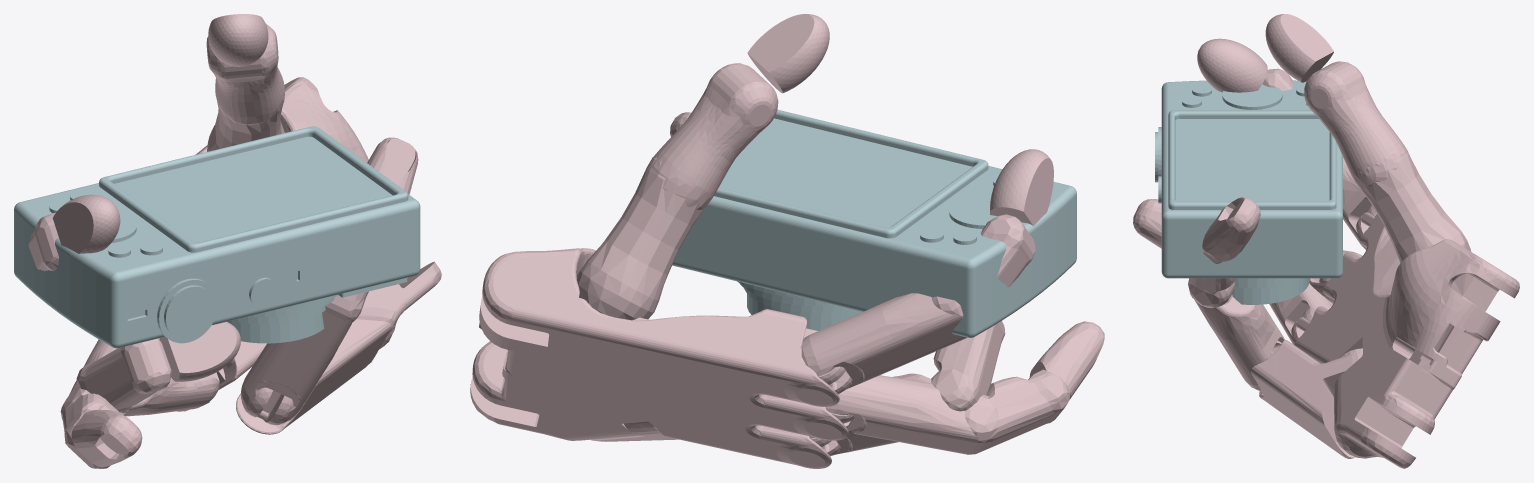
File: grasp_9.glb
3 views of the same model, side by side, from view 1: azimuth 30°, elevation 25°; view 2: azimuth 150°, elevation 25°; view 3: azimuth 270°, elevation 25° (orthographic). The views are drawn at different scales.
Parts seen in each view (by area): view 1: world; view 2: world; view 3: world.
Part boxes in pixels (x1,y1,x2,y2): world: [14, 14, 441, 468]; world: [470, 14, 1104, 468]; world: [1133, 14, 1519, 468].
Size of the model in its own units: 0.1719 by 0.1467 by 0.138.
